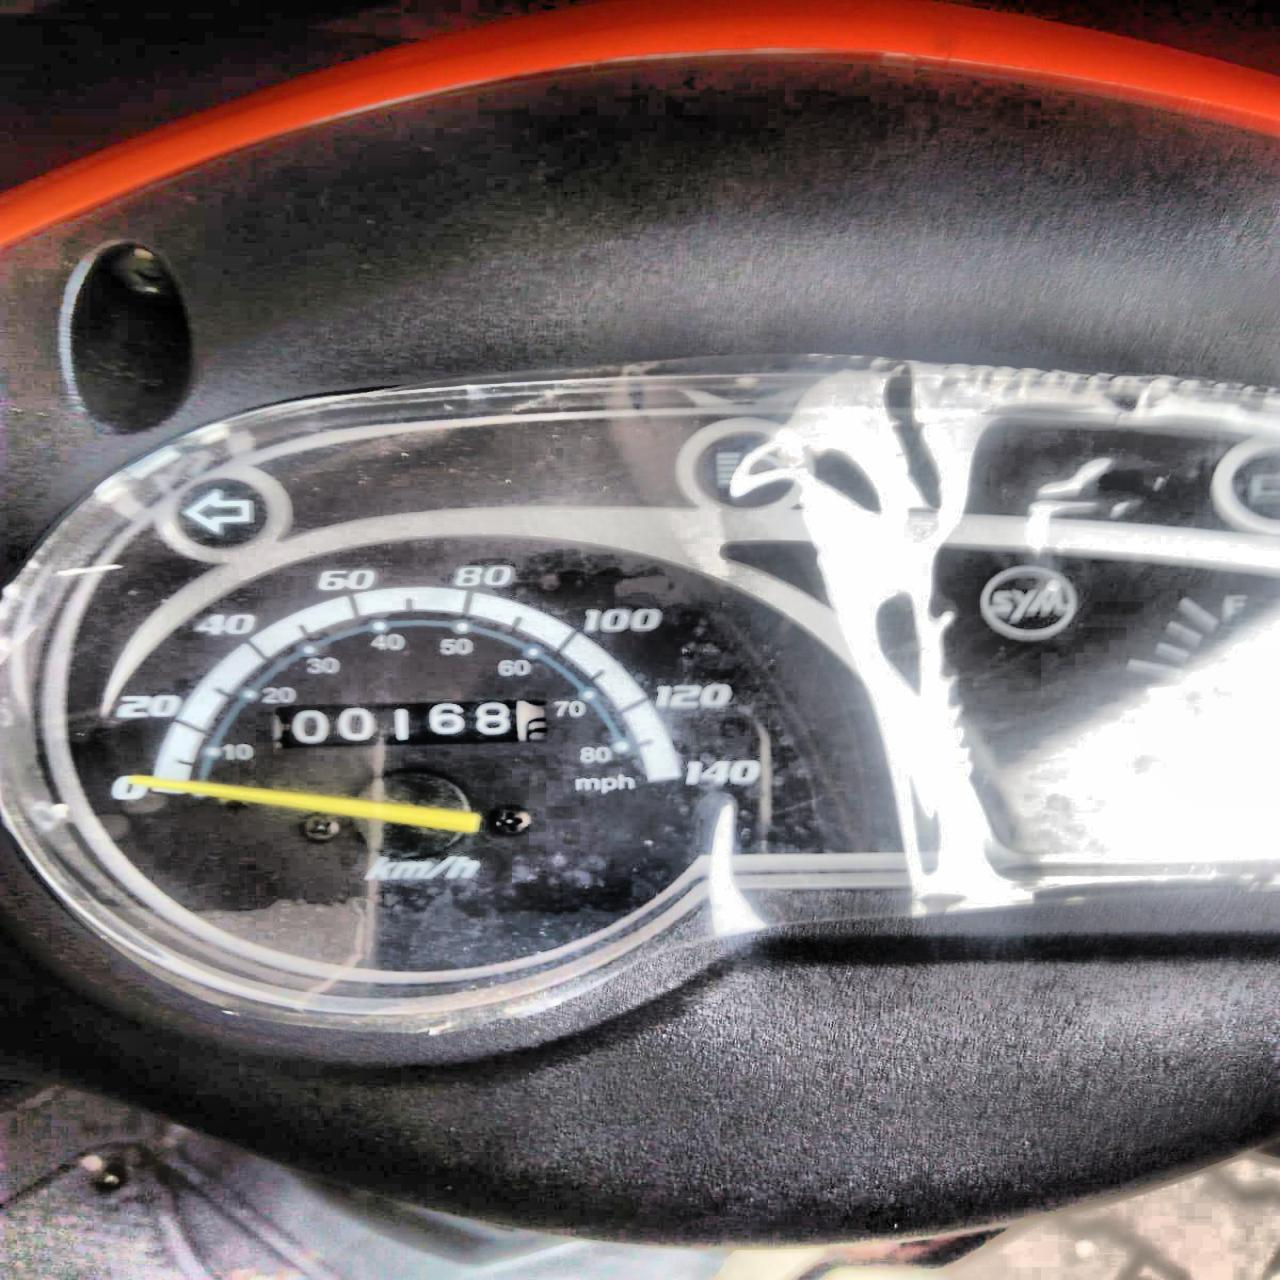0: (291, 709, 328, 743), (335, 707, 374, 740)
1: (390, 707, 410, 740)
6: (428, 702, 464, 735), (524, 716, 551, 743)
8: (474, 701, 511, 734)
odometer: (271, 697, 551, 753)
